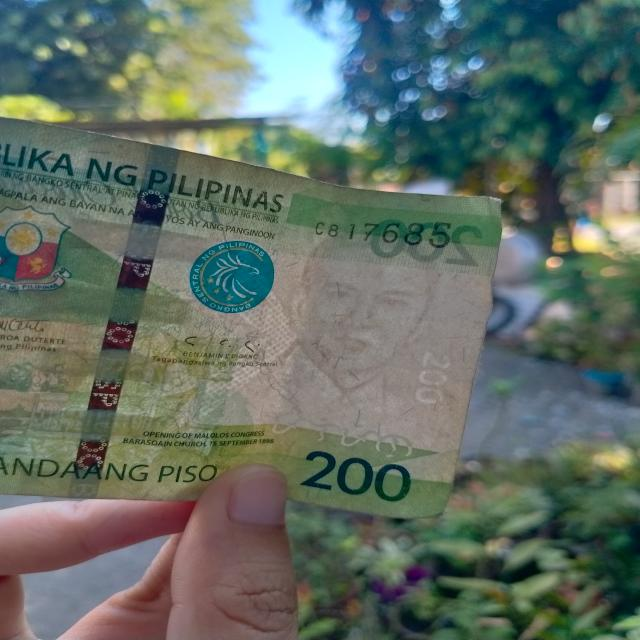security_thread: (67, 138, 180, 497)
see_through_mark: (244, 413, 423, 465)
serial_number: (302, 214, 450, 252)
value_watermark: (411, 349, 449, 409)
watermark: (254, 223, 430, 427)
